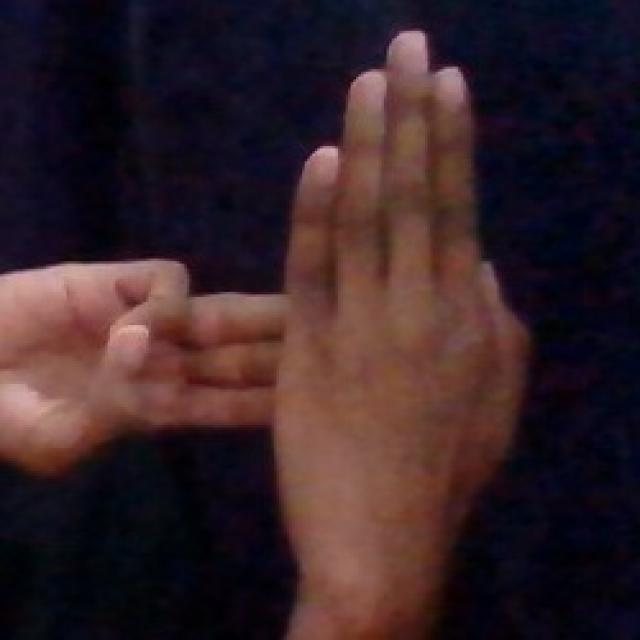Alphabet-M: (0, 28, 550, 640)
